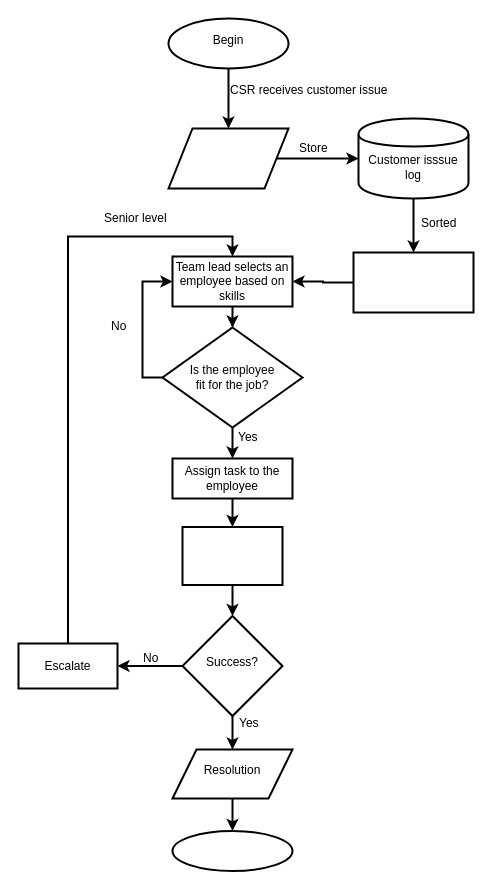
This 496x889 diagram has some shape labels left out. Each missing label, with the centre of its shape:
"Customer complaint" goes at point (228, 158).
"End" goes at point (232, 851).
"Resolve the issue" goes at point (232, 556).
"Sorting of issues on category basis by Team Lead" goes at point (413, 282).
